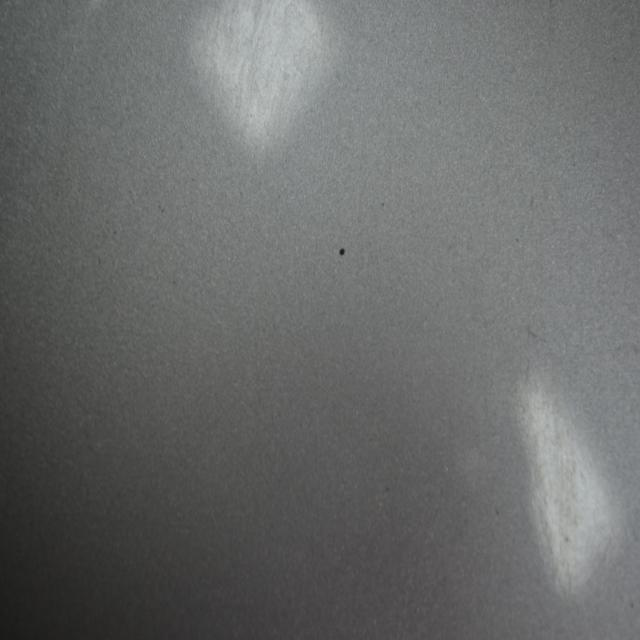dirt: (337, 243, 345, 257)
